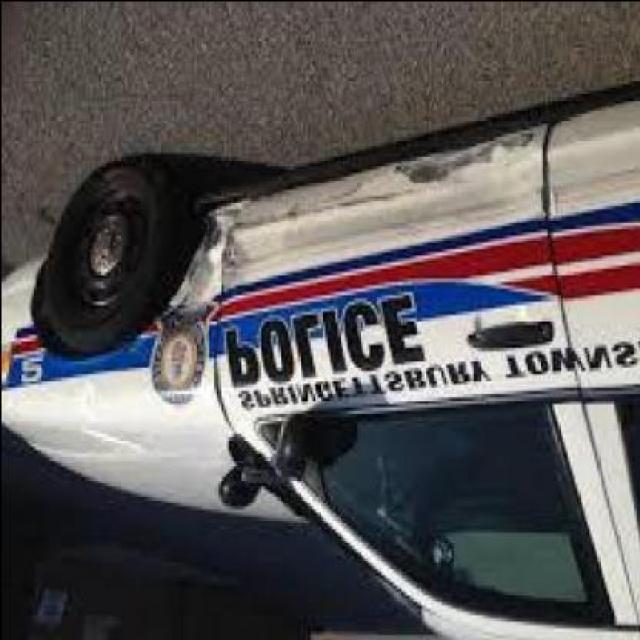damage: (152, 122, 552, 343)
